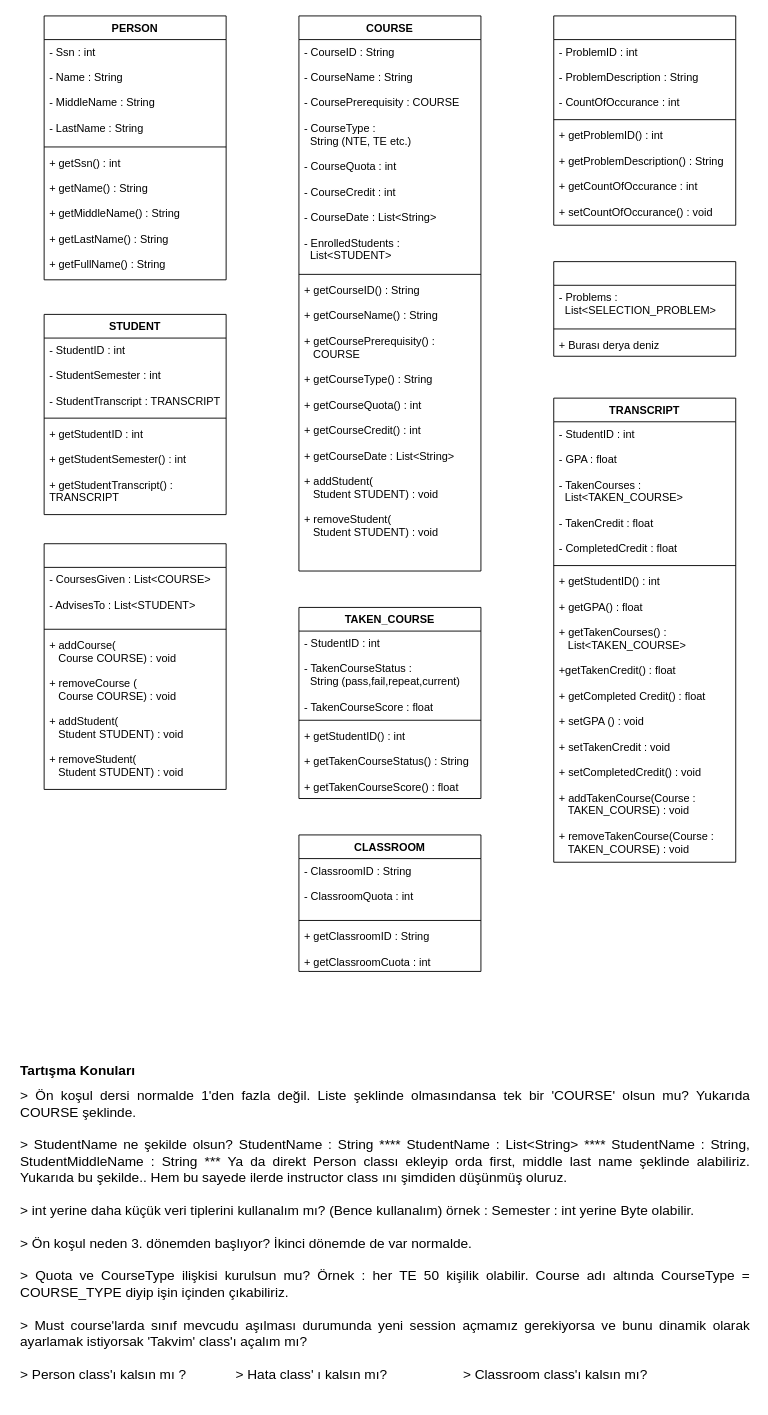
Some shapes in this 768 by 1415 pixel diagram are drawn without their labels. The box of each missing label's shape, as (x1, y1, x2, y2) in pixels:
MAIN: (553, 261, 736, 356)
SELECTION_PROBLEM: (553, 15, 736, 225)
STAFF: (43, 543, 226, 789)
